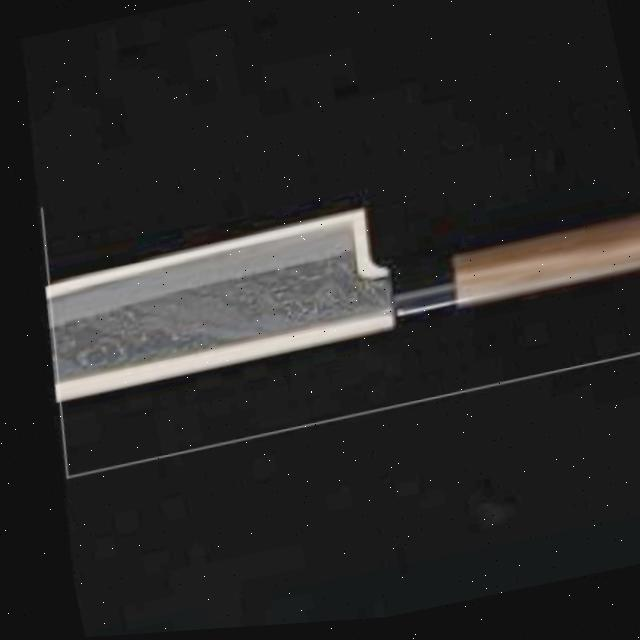knife: (23, 165, 640, 393)
